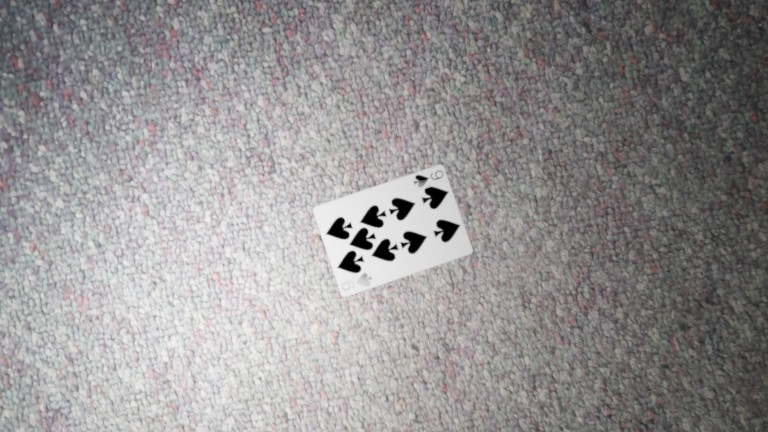9_of_spades: (164, 66, 179, 77), (136, 108, 150, 118)
